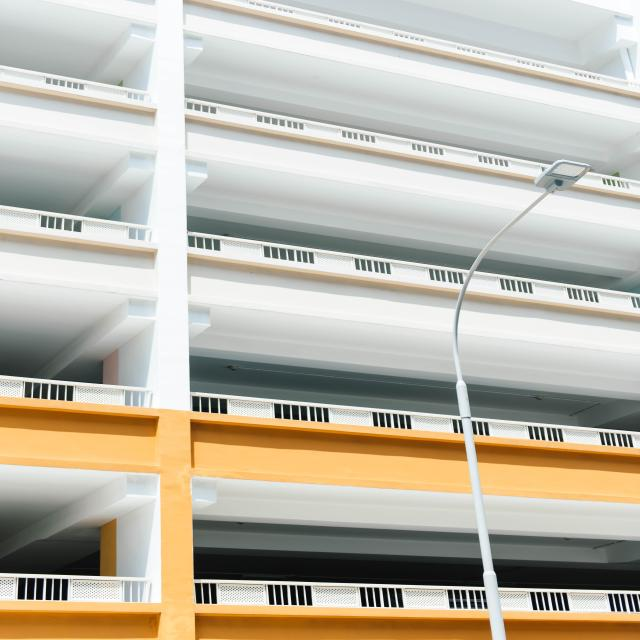Street Light: (450, 159, 596, 640)
